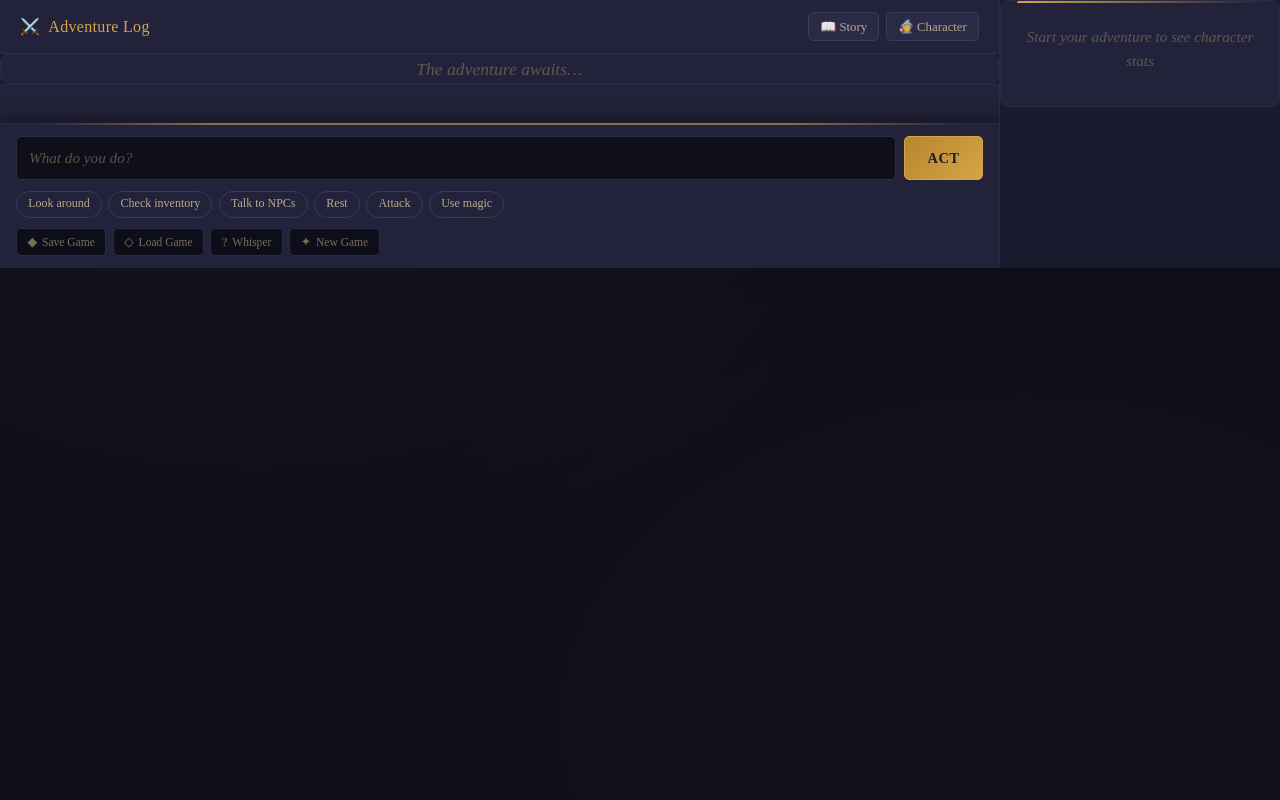
it: GamePage — story modal › opens the Story modal when Story button is clicked
Click the button with aria-label "view adventure story": (844, 27) [808,12,879,41]
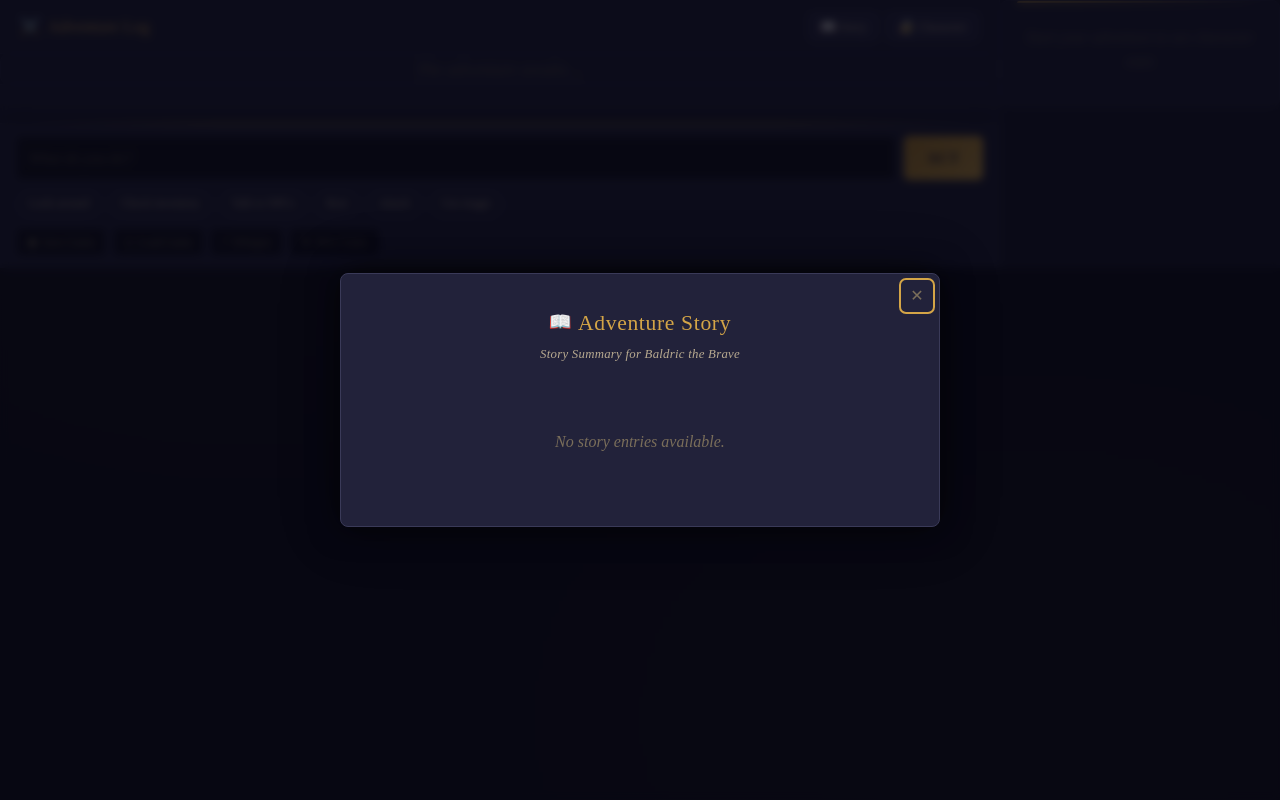
Now the dialog "Adventure Story" is shown
